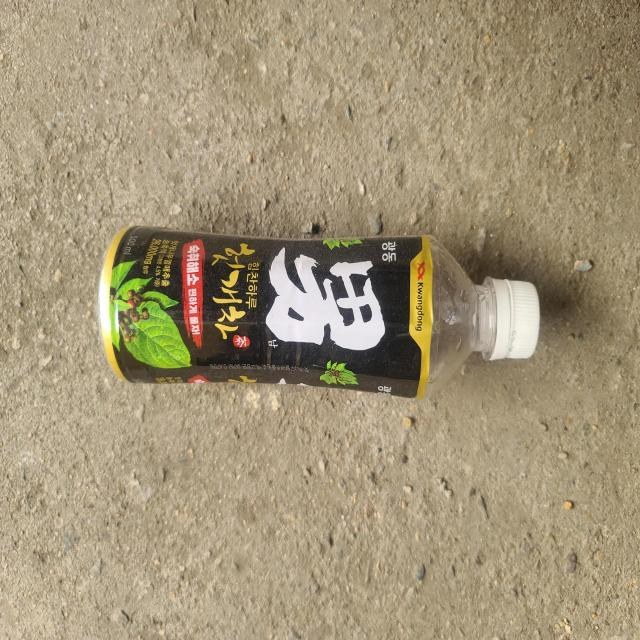plastic: (98, 225, 540, 398)
